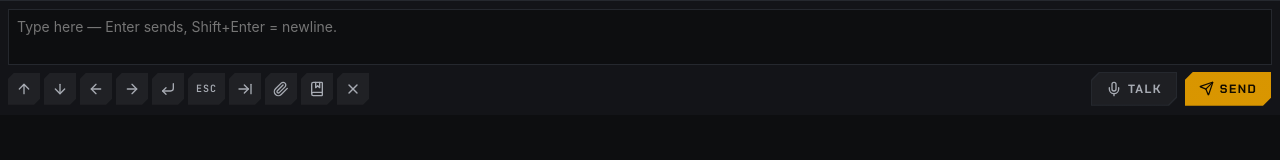
Test: dictation gives up (and says so) after repeated dead starts instead of spinning (#736)
Press the mouse on the button with aria-label "voice input" at coordinates (1134, 89), box [1090,71,1178,107]
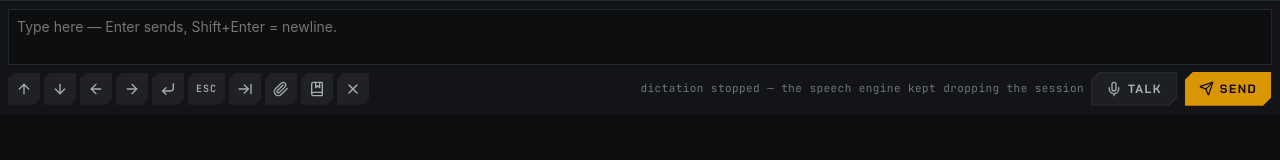
Now the text "kept dropping the session" is shown, box [640,81,1084,95]
